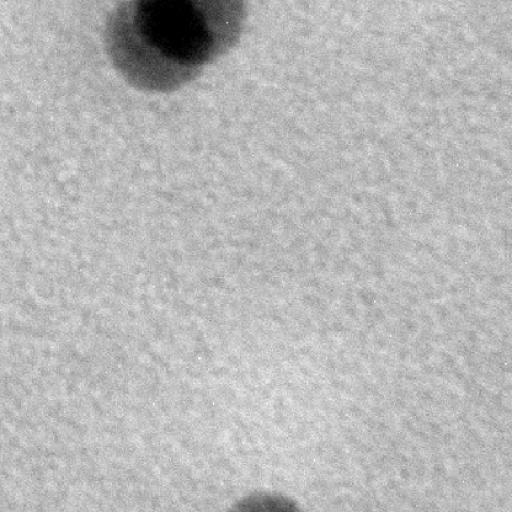Nanoparticles: (103, 0, 212, 93), (135, 1, 246, 64), (227, 485, 301, 510)
